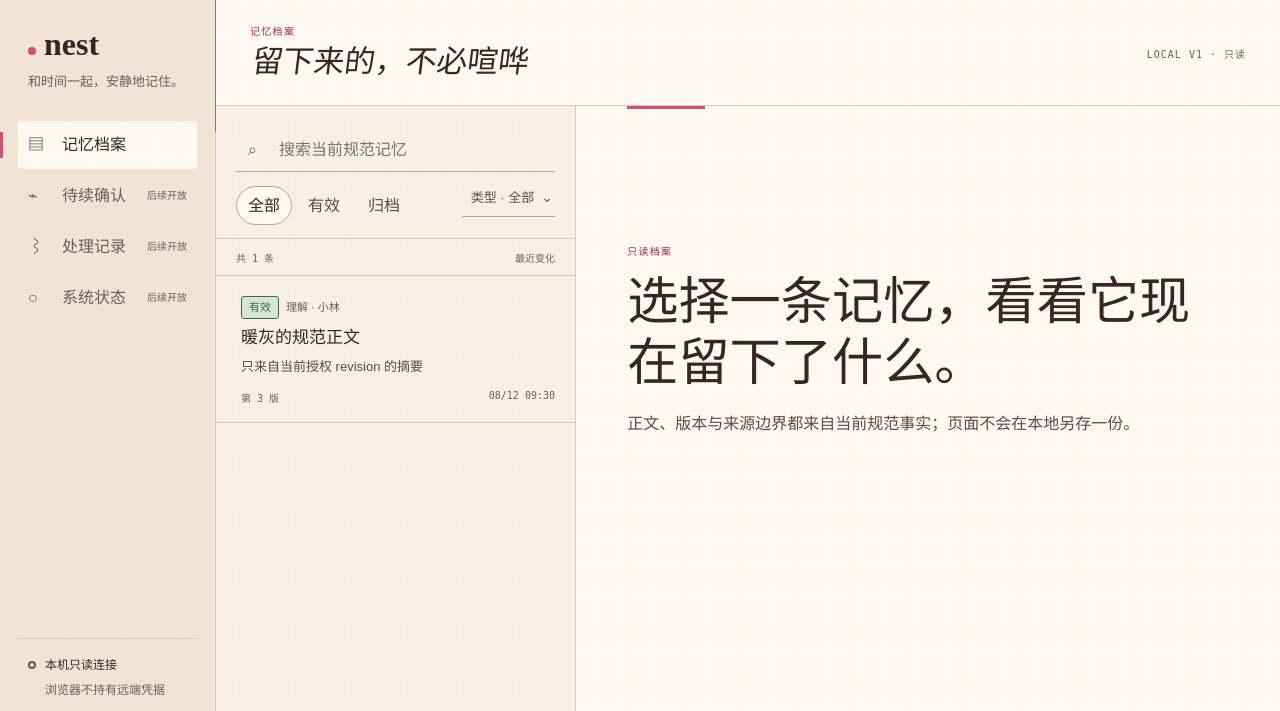
it: 永久删除原型接线 › 两个分散段分别保留与清除，共享标题不串段
The image size is (1280, 711).
What coordinates should you click on to do the following:
click the button "有效 理解 · 小林 暖灰的规范正文 只来自当前授权 revision 的摘要 第 3 版 08/12 09:30"
I would click on:
 (260, 308)
Its box is [216,276,575,423].
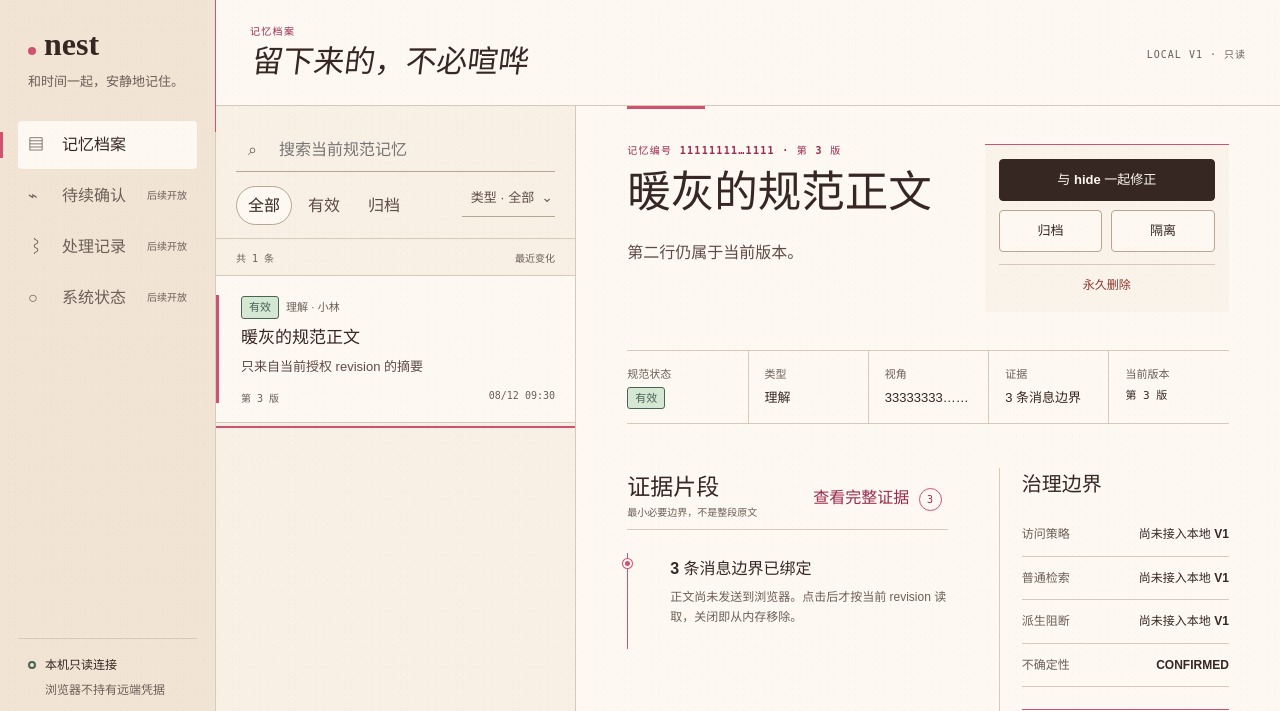
What coordinates should you click on to do the following:
click the button "永久删除"
I would click on:
 (1107, 281)
Its box is [999,264,1215,298].
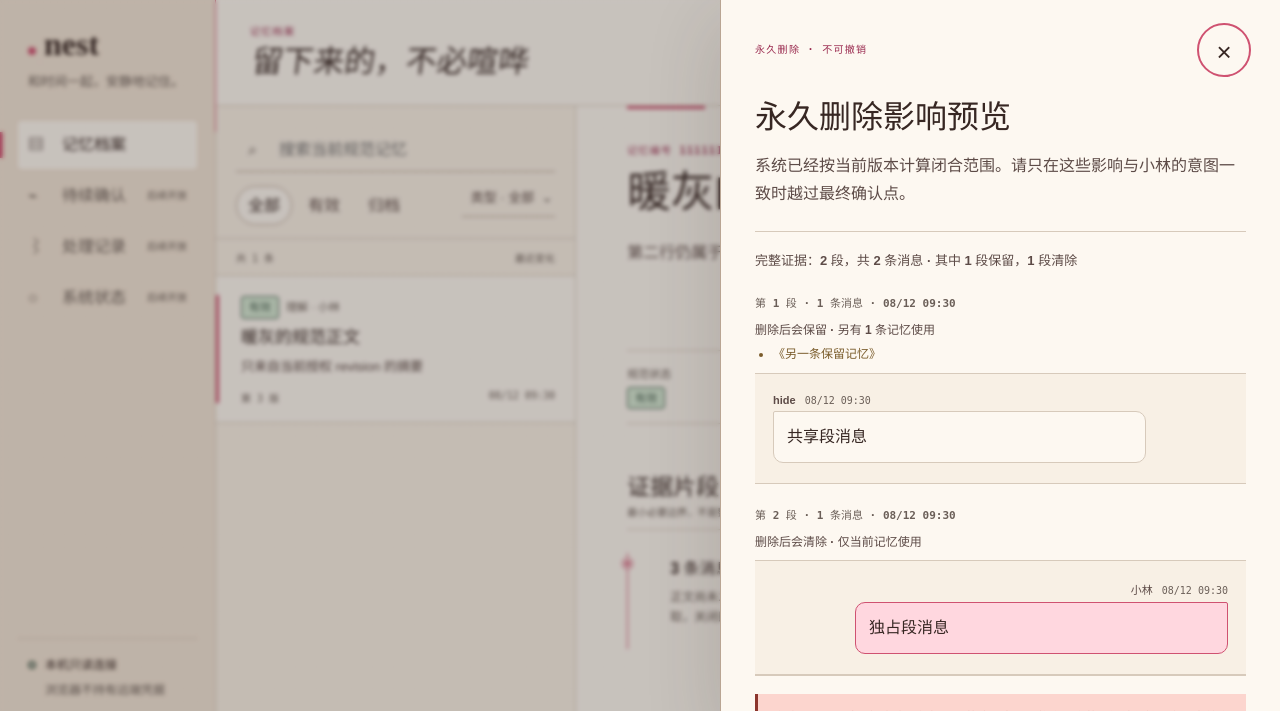
Result: the text "完整证据：2 段，共 2 条消息 · 其中 1 段保留，1 段清除" is shown at [755,253,1077,268]
Result: the text "删除后会保留 · 另有 1 条记忆使用" is shown at [755,323,935,337]
Result: the list item "《另一条保留记忆》" is shown at [773,347,881,361]
